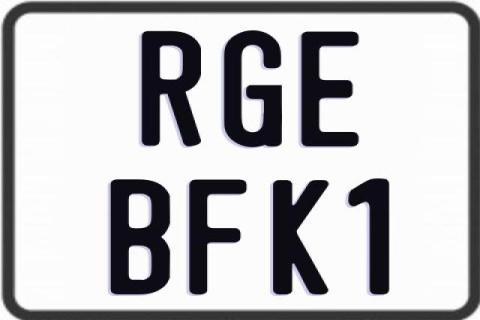0: (346, 177, 393, 295)
B: (110, 177, 170, 296)
E: (301, 30, 363, 146)
F: (186, 179, 249, 297)
G: (223, 29, 281, 147)
K: (272, 180, 332, 297)
R: (139, 30, 201, 150)
